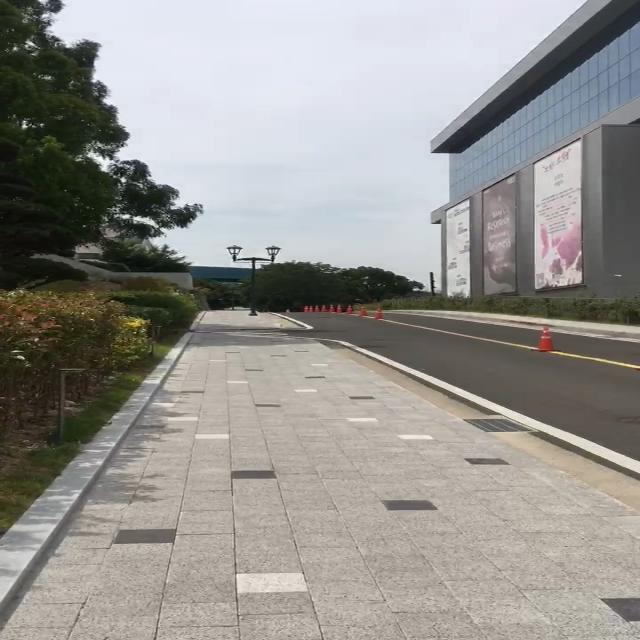obstacle: (527, 322, 566, 353)
sidewalk: (0, 328, 640, 640), (388, 309, 640, 348), (196, 308, 304, 330)
